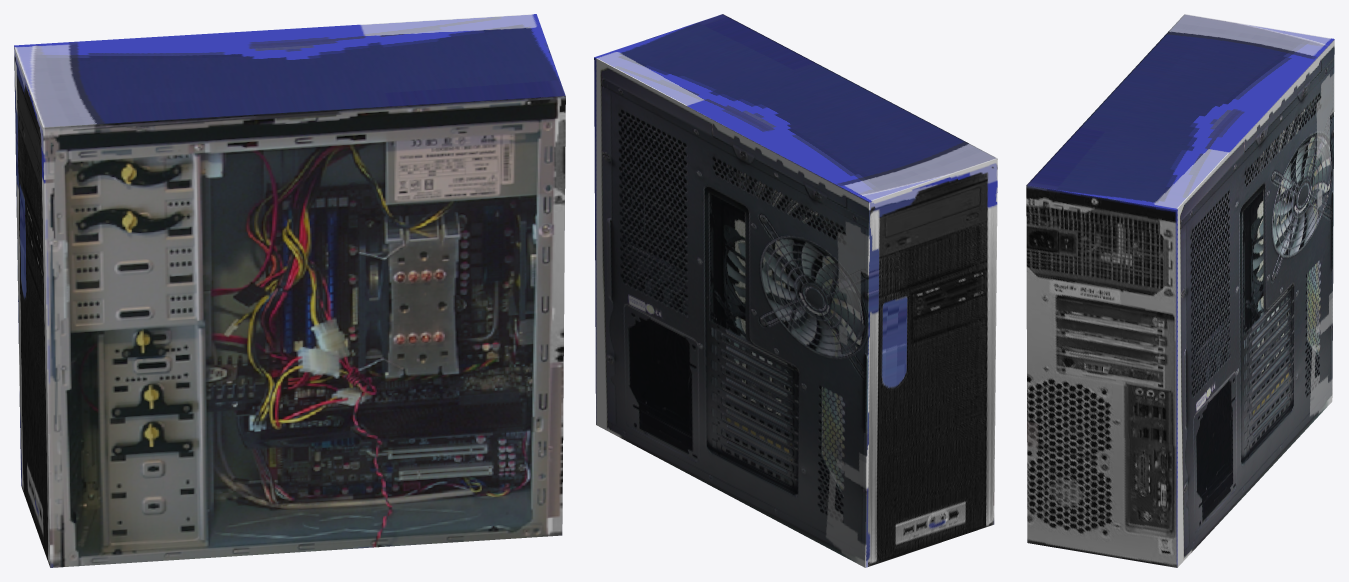
The model's file is mengenal_cpu.glb.
3 views of the same model, side by side, from view 1: azimuth 30°, elevation 25°; view 2: azimuth 150°, elevation 25°; view 3: azimuth 270°, elevation 25° (orthographic). The views are drawn at different scales.
Parts seen in each view (by area): view 1: Object_5; view 2: Object_5; view 3: Object_5.
Boxes of the visible parts, left/top/right/bottom form: Object_5: left=14, top=14, right=565, bottom=567; Object_5: left=594, top=14, right=997, bottom=567; Object_5: left=1026, top=14, right=1334, bottom=567.
Bounding box in the file's own units: 0.5504 × 0.4745 × 0.3679.
Materials: 1 (1 with a texture image).
